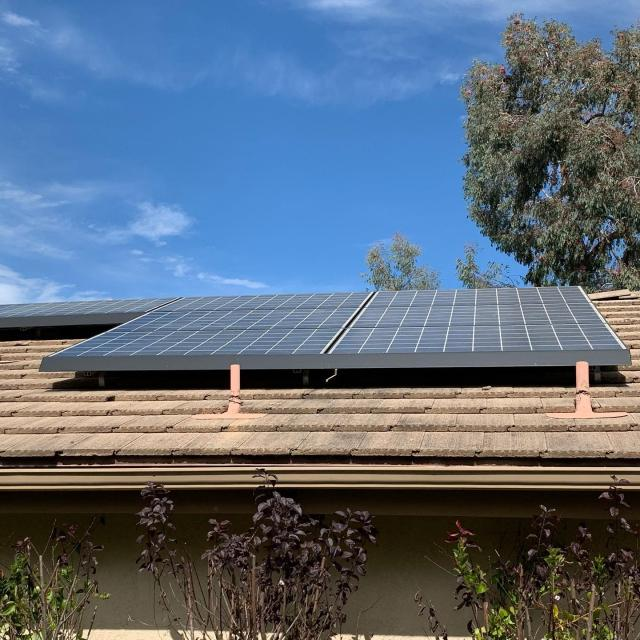dust-solar-panel: (0, 284, 617, 356)
